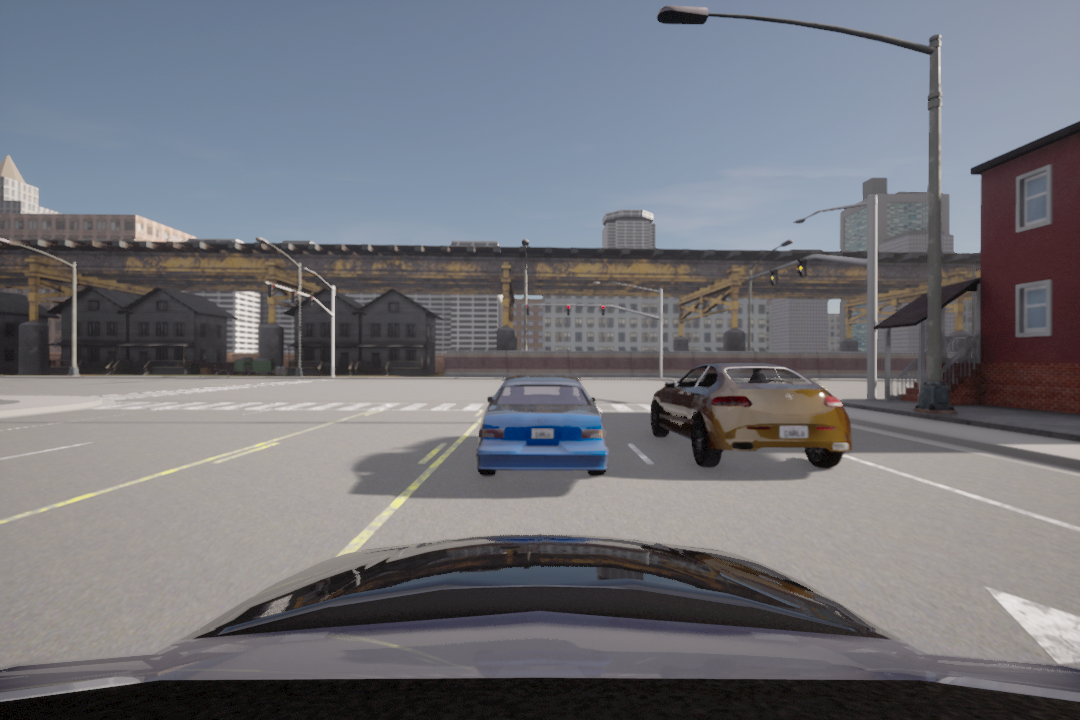TrafficLight: (767, 267, 782, 287), (796, 257, 805, 278), (266, 283, 276, 299), (290, 289, 298, 306), (308, 290, 314, 309), (565, 305, 573, 318), (524, 302, 530, 316), (600, 304, 606, 317)
walkside: (108, 396, 724, 421)
